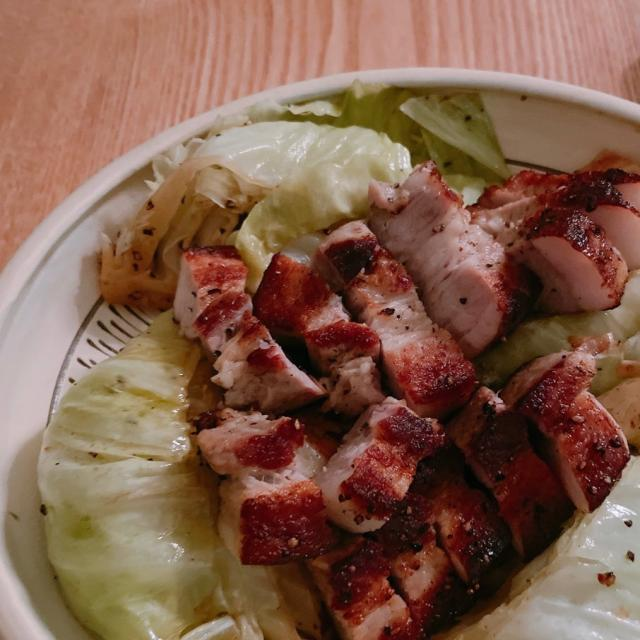OK cooked pork,: (355, 151, 517, 356)
overcooked pork: (304, 216, 478, 423), (435, 387, 593, 569), (162, 238, 326, 412), (196, 408, 358, 579), (402, 413, 536, 619), (498, 343, 638, 518), (246, 252, 385, 417), (346, 494, 491, 638), (474, 162, 640, 265), (506, 197, 640, 323), (271, 538, 433, 640), (309, 394, 422, 536)
